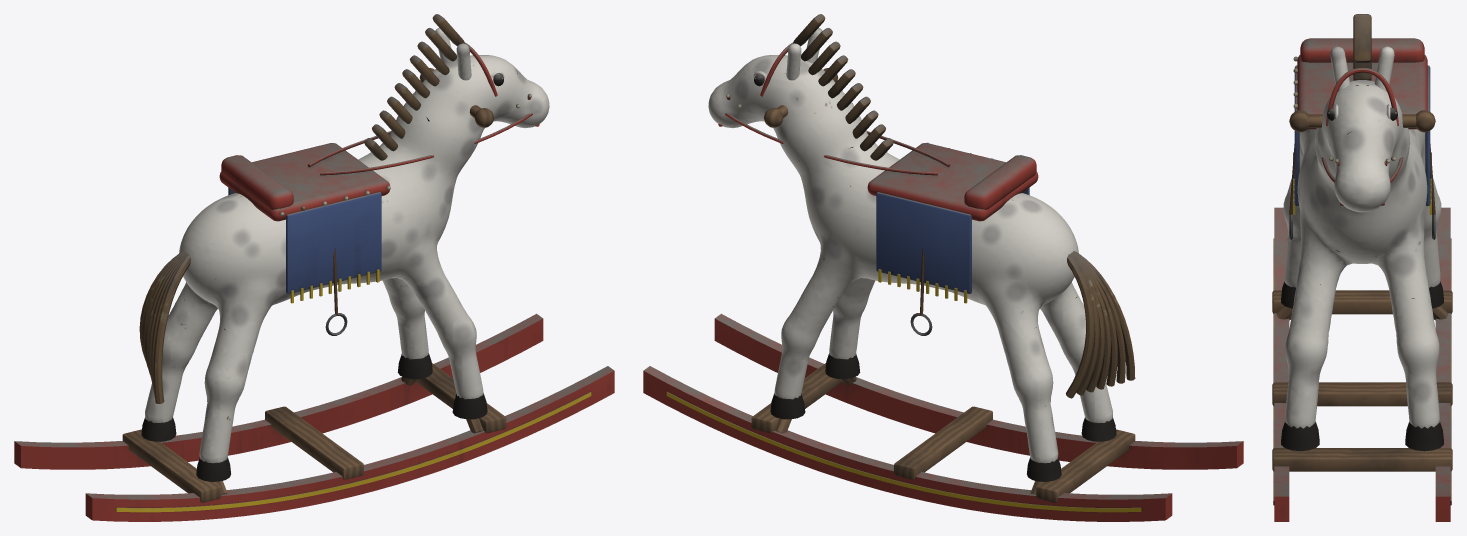
File: SM_RockingHorse.fbx
3 renders of one model, left to right at view 1: azimuth 30°, elevation 25°; view 2: azimuth 150°, elevation 25°; view 3: azimuth 270°, elevation 25°, orthographic. The views are drawn at different scales.
Parts seen in each view (by area): view 1: SM_RockingHorse; view 2: SM_RockingHorse; view 3: SM_RockingHorse.
Boxes of the visible parts, x1=… form: SM_RockingHorse: x1=14, y1=14, x2=614, y2=521; SM_RockingHorse: x1=643, y1=14, x2=1243, y2=521; SM_RockingHorse: x1=1272, y1=14, x2=1452, y2=521.
Size of the model in its own units: 1.1 by 0.8481 by 0.29.
1 material, 1 textured.
